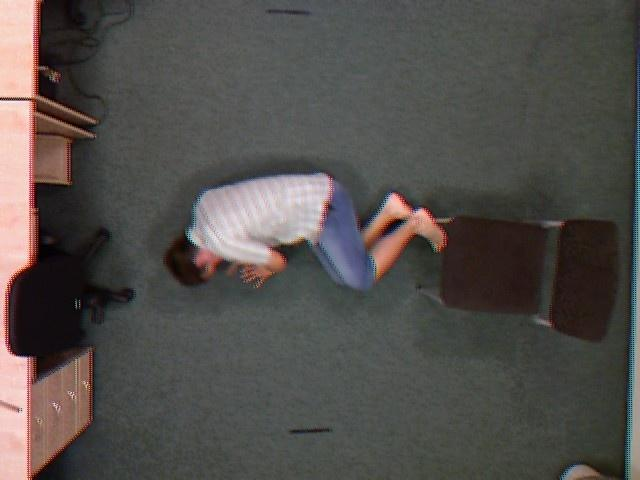fall: (150, 166, 474, 314)
